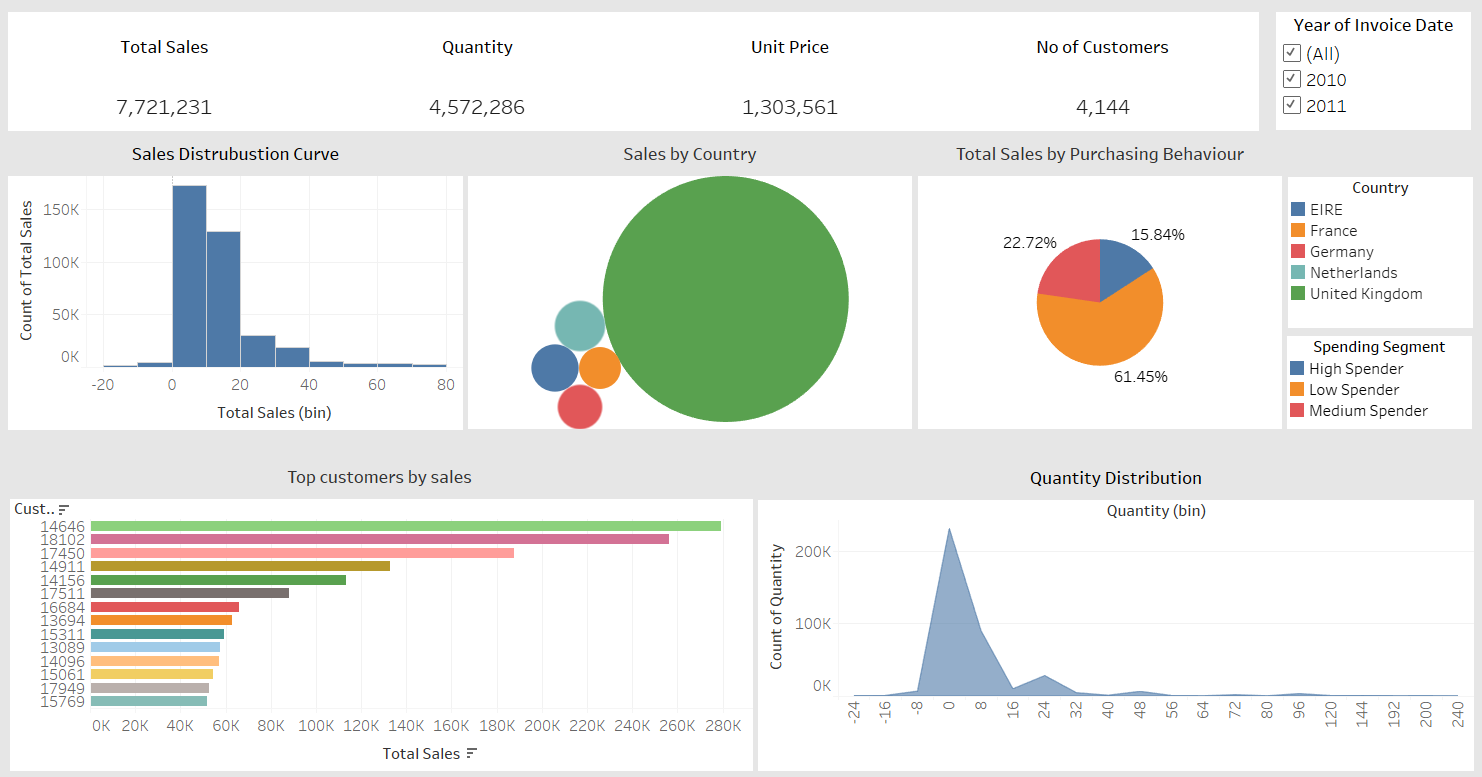

This screenshot's page, from the dashboard's own definition file:
{"tool":"tableau","page":{"name":"Sales Dashboard 1 ","canvas":[1500,800],"ordinal":0},"visuals":[{"type":"worksheet","title":"KPIs","mark":"Automatic","box":[14,22,1251,119]},{"type":"filter","title":"KPIs","param":"[federated.1td83ee1odnfs61gbu48m1v0lfze].[yr:InvoiceDate:ok]","box":[1282,22,195,118]},{"type":"worksheet","title":"Sales Distribution Curve","mark":"Automatic","rows":["Calculation_727894350623166465"],"cols":["Total Sales (bin)"],"box":[14,147,455,293]},{"type":"worksheet","title":"Sales by Country","mark":"Circle","box":[474,147,444,292]},{"type":"worksheet","title":"Total Sales by Purchasing Behaviour","mark":"Pie","box":[924,147,364,292]},{"type":"legend","title":"Sales by Country","param":"[federated.1td83ee1odnfs61gbu48m1v0lfze].[none:Country:nk]","box":[1294,187,185,151]},{"type":"legend","title":"Total Sales by Purchasing Behaviour","param":"[federated.1td83ee1odnfs61gbu48m1v0lfze].[none:Calculation_727894350667735043:nk","box":[1293,346,185,93]},{"type":"worksheet","title":"Top Customers by sales distribution","mark":"Automatic","rows":["CustomerID"],"cols":["Calculation_727894350623166465"],"box":[16,470,743,311]},{"type":"worksheet","title":"Quantity Distribution","mark":"Area","rows":["Quantity"],"cols":["Quantity (bin)"],"box":[764,471,716,310]}]}

Visuals, with their boxes in screenshot pixels (x1, y1, x2, y2), scaled from the page's 1500x800 canvas onto the 1482x777 screenshot:
"KPIs" worksheet: 14:21:1250:137
"KPIs" filter: 1267:21:1459:136
"Sales Distribution Curve" worksheet: 14:143:463:427
"Sales by Country" worksheet (Circle marks): 468:143:907:426
"Total Sales by Purchasing Behaviour" worksheet (Pie marks): 913:143:1273:426
"Sales by Country" legend: 1278:182:1461:328
"Total Sales by Purchasing Behaviour" legend: 1277:336:1460:426
"Top Customers by sales distribution" worksheet: 16:456:750:759
"Quantity Distribution" worksheet (Area marks): 755:457:1462:759
